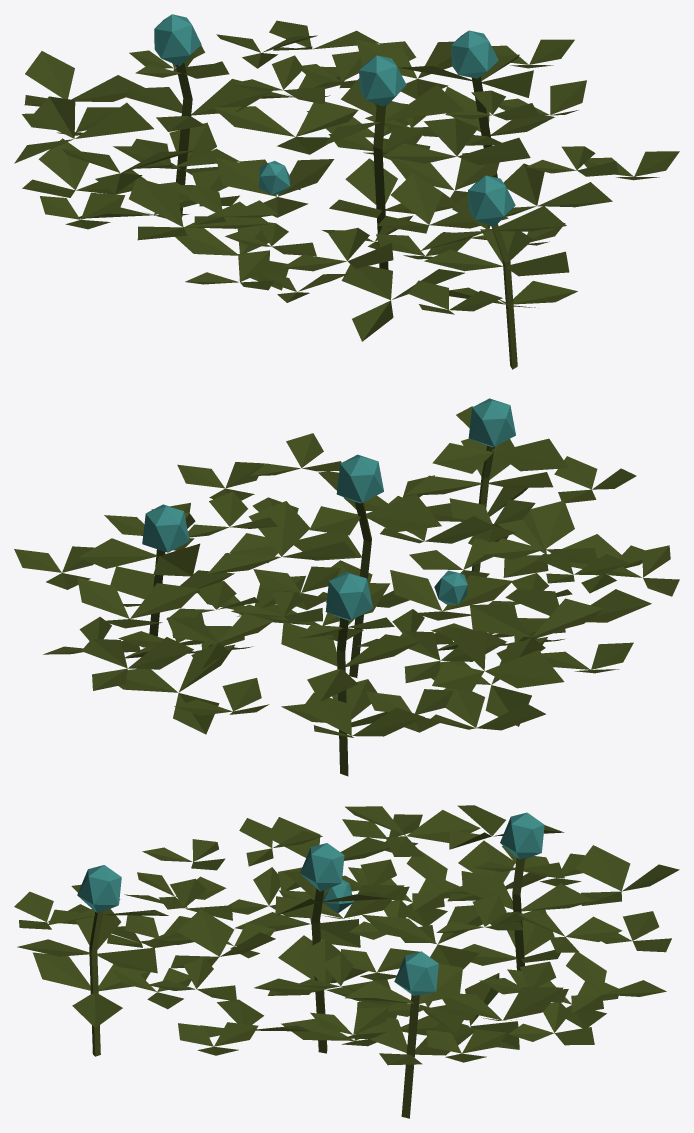
File: SM_Clover_Group_B_Flowering.fbx
The picture shows the model from 3 angles, top to bottom: view 1: azimuth 30°, elevation 25°; view 2: azimuth 150°, elevation 25°; view 3: azimuth 270°, elevation 25°; orthographic projection. The views are drawn at different scales.
Parts seen in each view (by area): view 1: clover-group-b-flowering; view 2: clover-group-b-flowering; view 3: clover-group-b-flowering.
Part boxes in pixels (bbox=[...]): clover-group-b-flowering: bbox=[14, 14, 679, 369]; clover-group-b-flowering: bbox=[14, 398, 679, 776]; clover-group-b-flowering: bbox=[14, 805, 679, 1118].
Bounding box in the file's own units: 0.895 × 0.3376 × 0.9825.
